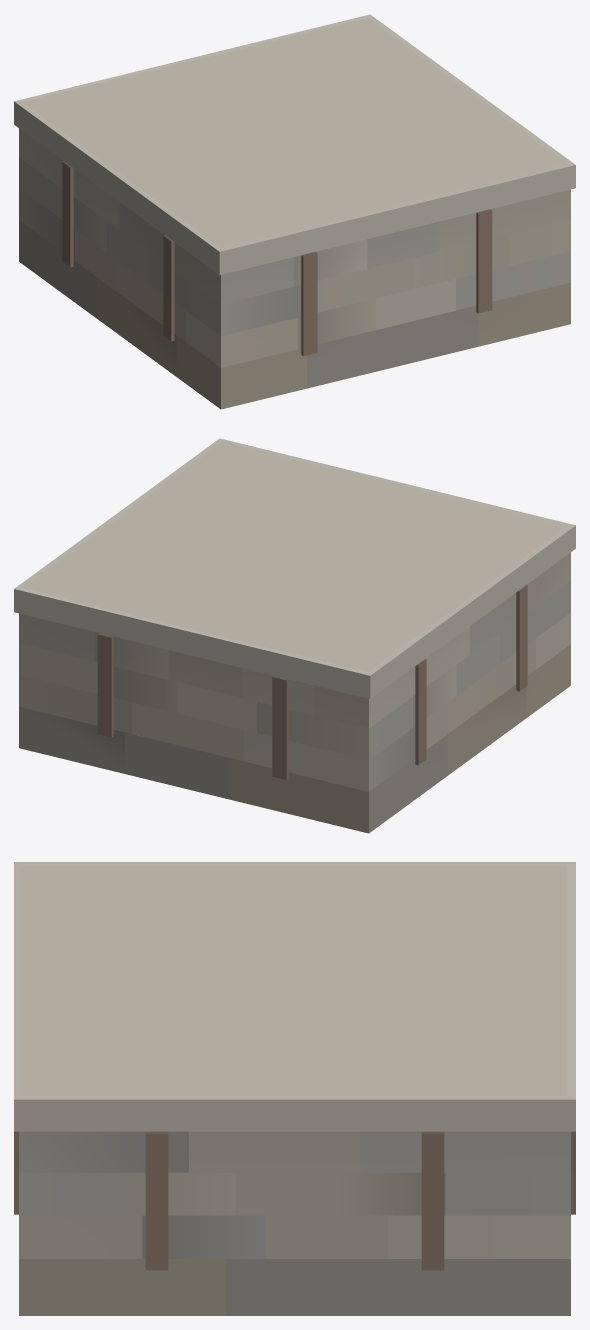
Rendered from quay.lod1.glb.
3 renders of one model, top to bottom at view 1: azimuth 30°, elevation 25°; view 2: azimuth 150°, elevation 25°; view 3: azimuth 270°, elevation 25°, orthographic. The views are drawn at different scales.
Bounding box in the file's own units: 4.48 × 1.92 × 4.48.
